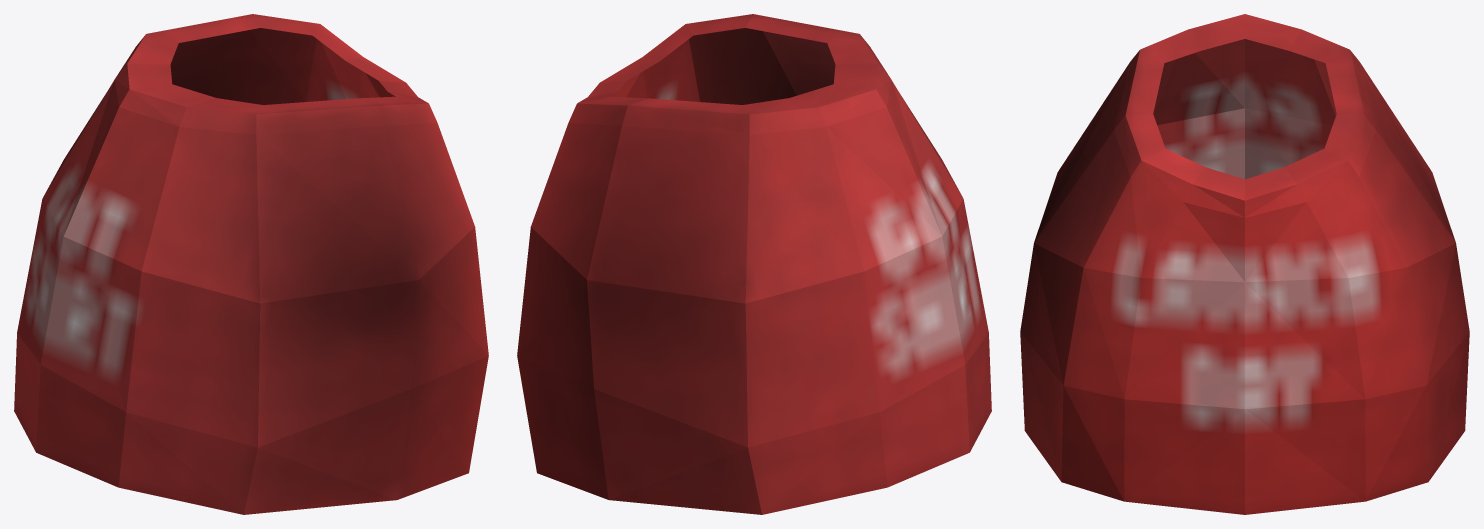
File: LAUNCH DAY TEE.fbx
3 renders of one model, left to right at view 1: azimuth 30°, elevation 25°; view 2: azimuth 150°, elevation 25°; view 3: azimuth 270°, elevation 25°, orthographic. The views are drawn at different scales.
Parts seen in each view (by area): view 1: LAUNCH_DAY_TEE; view 2: LAUNCH_DAY_TEE; view 3: LAUNCH_DAY_TEE.
Part boxes in pixels (x1,y1,x2,y2): LAUNCH_DAY_TEE: [14, 14, 488, 514]; LAUNCH_DAY_TEE: [517, 14, 991, 514]; LAUNCH_DAY_TEE: [1020, 14, 1469, 514].
Bounding box in the file's own units: 36.03 × 32.96 × 37.09.
